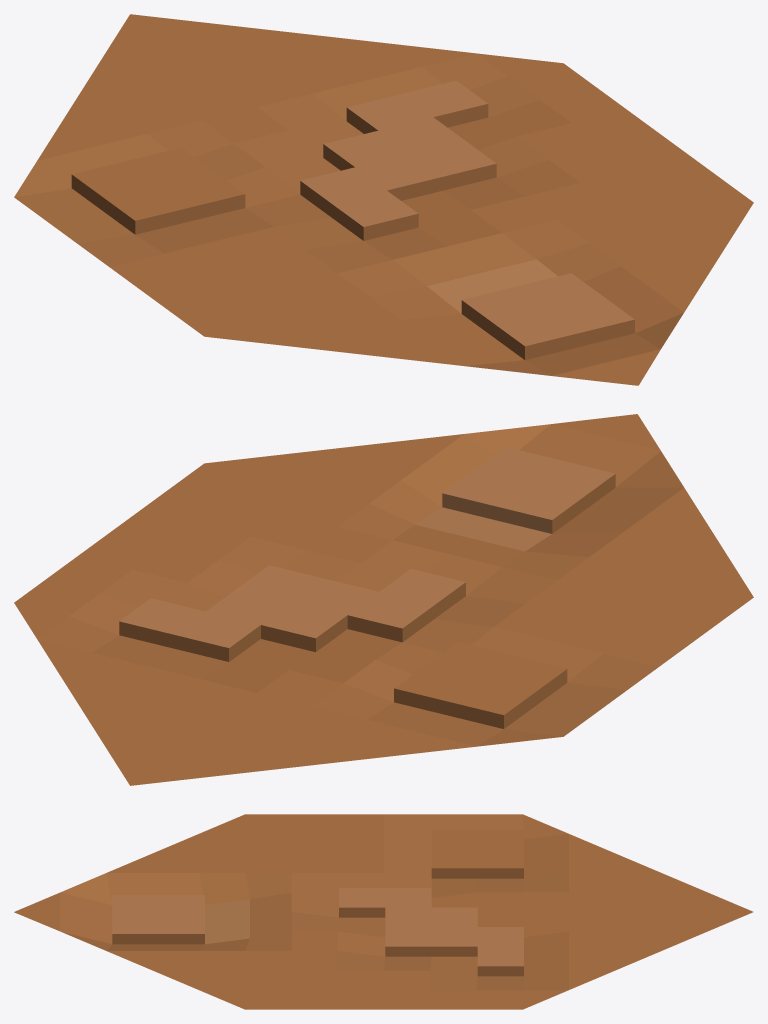
Rendered from desert.fbx.
The picture shows the model from 3 angles, top to bottom: view 1: azimuth 30°, elevation 25°; view 2: azimuth 150°, elevation 25°; view 3: azimuth 270°, elevation 25°; orthographic projection. The views are drawn at different scales.
Visible parts, largest first — view 1: Plane; view 2: Plane; view 3: Plane.
Boxes of the visible parts, x1,y1,x2,y2 form: Plane: (14, 14, 753, 385); Plane: (14, 414, 753, 785); Plane: (14, 814, 753, 1009).
Bounding box in the file's own units: 1.25 × 0.0451 × 2.
